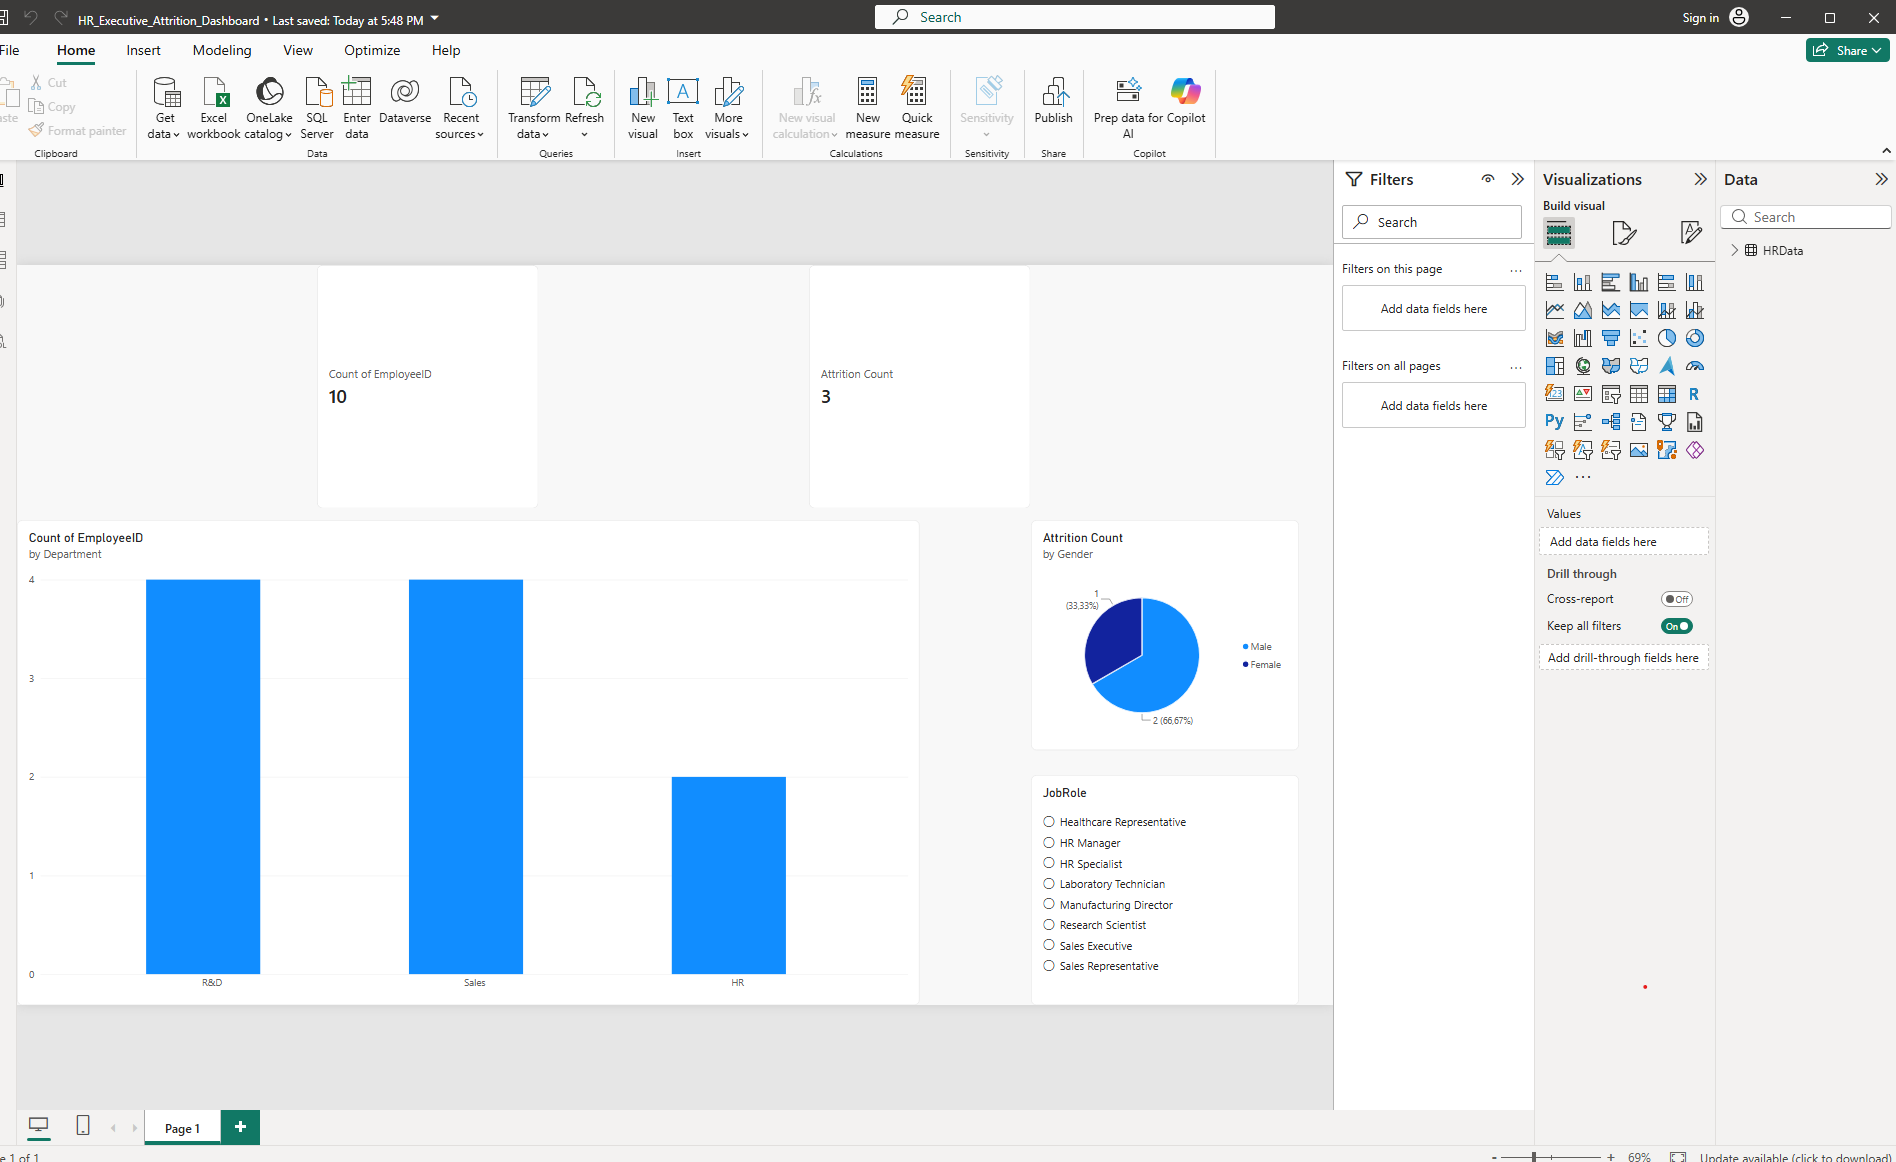

The dashboard page shown, as its layout file describes it:
{"tool":"powerbi","page":{"name":"Page 1","canvas":[1920,1080],"ordinal":0},"visuals":[{"type":"cardVisual","fields":{"Data":["CountNonNull(HRData.EmployeeID)"]},"box":[437.7,0,323.9,356],"z":0},{"type":"cardVisual","fields":{"Data":["HRData.Attrition Count"]},"box":[1155.5,0,323.9,356],"z":1000},{"type":"clusteredColumnChart","fields":{"Category":["HRData.Department"],"Y":["CountNonNull(HRData.EmployeeID)"]},"box":[0,372,1317.4,707.6],"z":1001},{"type":"pieChart","fields":{"Category":["HRData.Gender"],"Y":["HRData.Attrition Count"]},"box":[1479.4,372,391,335.6],"z":1002},{"type":"listSlicer","fields":{"Values":["HRData.JobRole"]},"box":[1479.4,744.1,391,335.6],"z":1003}]}

Visuals, with their boxes on the page's 1920x1080 design canvas (x1, y1, x2, y2). These are canvas units, not pixel positions in the 1896x1162 screenshot, which may show the page scaled, cropped or inside an application window:
cardVisual - CountNonNull(HRData.EmployeeID): [left=438, top=0, right=762, bottom=356]
cardVisual - HRData.Attrition Count: [left=1156, top=0, right=1479, bottom=356]
clusteredColumnChart - HRData.Department x CountNonNull(HRData.EmployeeID): [left=0, top=372, right=1317, bottom=1080]
pieChart - HRData.Gender x HRData.Attrition Count: [left=1479, top=372, right=1870, bottom=708]
listSlicer - HRData.JobRole: [left=1479, top=744, right=1870, bottom=1080]
